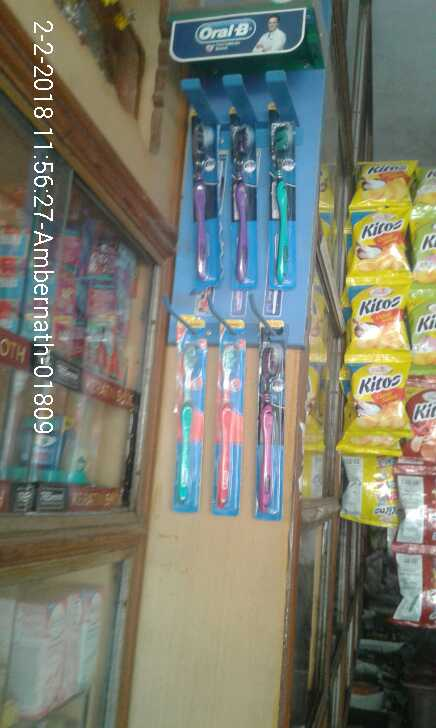oralb: (214, 125, 258, 292), (162, 330, 199, 505), (253, 343, 289, 516), (208, 330, 242, 512), (181, 116, 218, 282), (271, 125, 297, 291)
